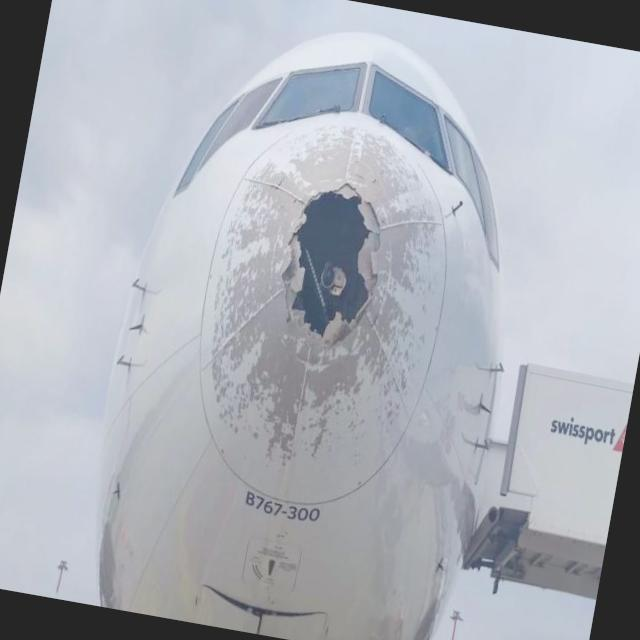crack: (286, 174, 381, 356)
dent: (215, 128, 436, 470)
